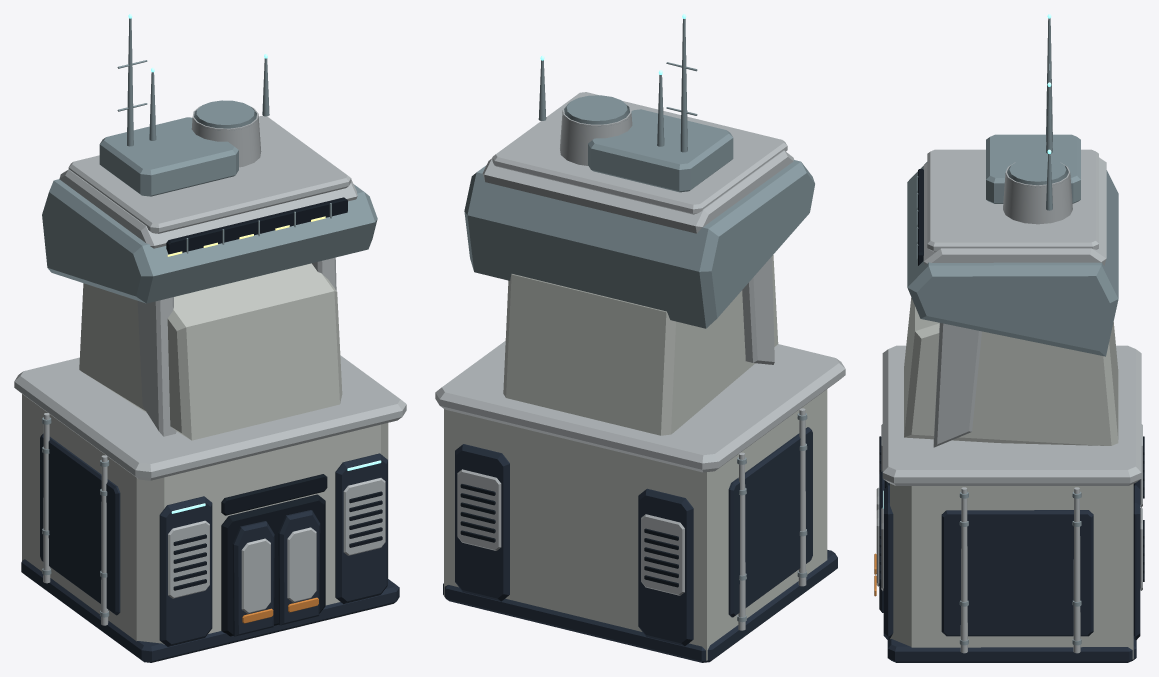
The model's file is relay_bunker.glb.
3 views of the same model, side by side, from view 1: azimuth 30°, elevation 25°; view 2: azimuth 150°, elevation 25°; view 3: azimuth 270°, elevation 25° (orthographic). The views are drawn at different scales.
Visible parts, largest first — view 1: relay_bunker; view 2: relay_bunker; view 3: relay_bunker.
Part boxes in pixels (x1=…): relay_bunker: x1=14, y1=14, x2=406, y2=662; relay_bunker: x1=435, y1=14, x2=845, y2=662; relay_bunker: x1=874, y1=14, x2=1144, y2=662.
Bounding box in the file's own units: 5.56 × 11.31 × 4.93.
